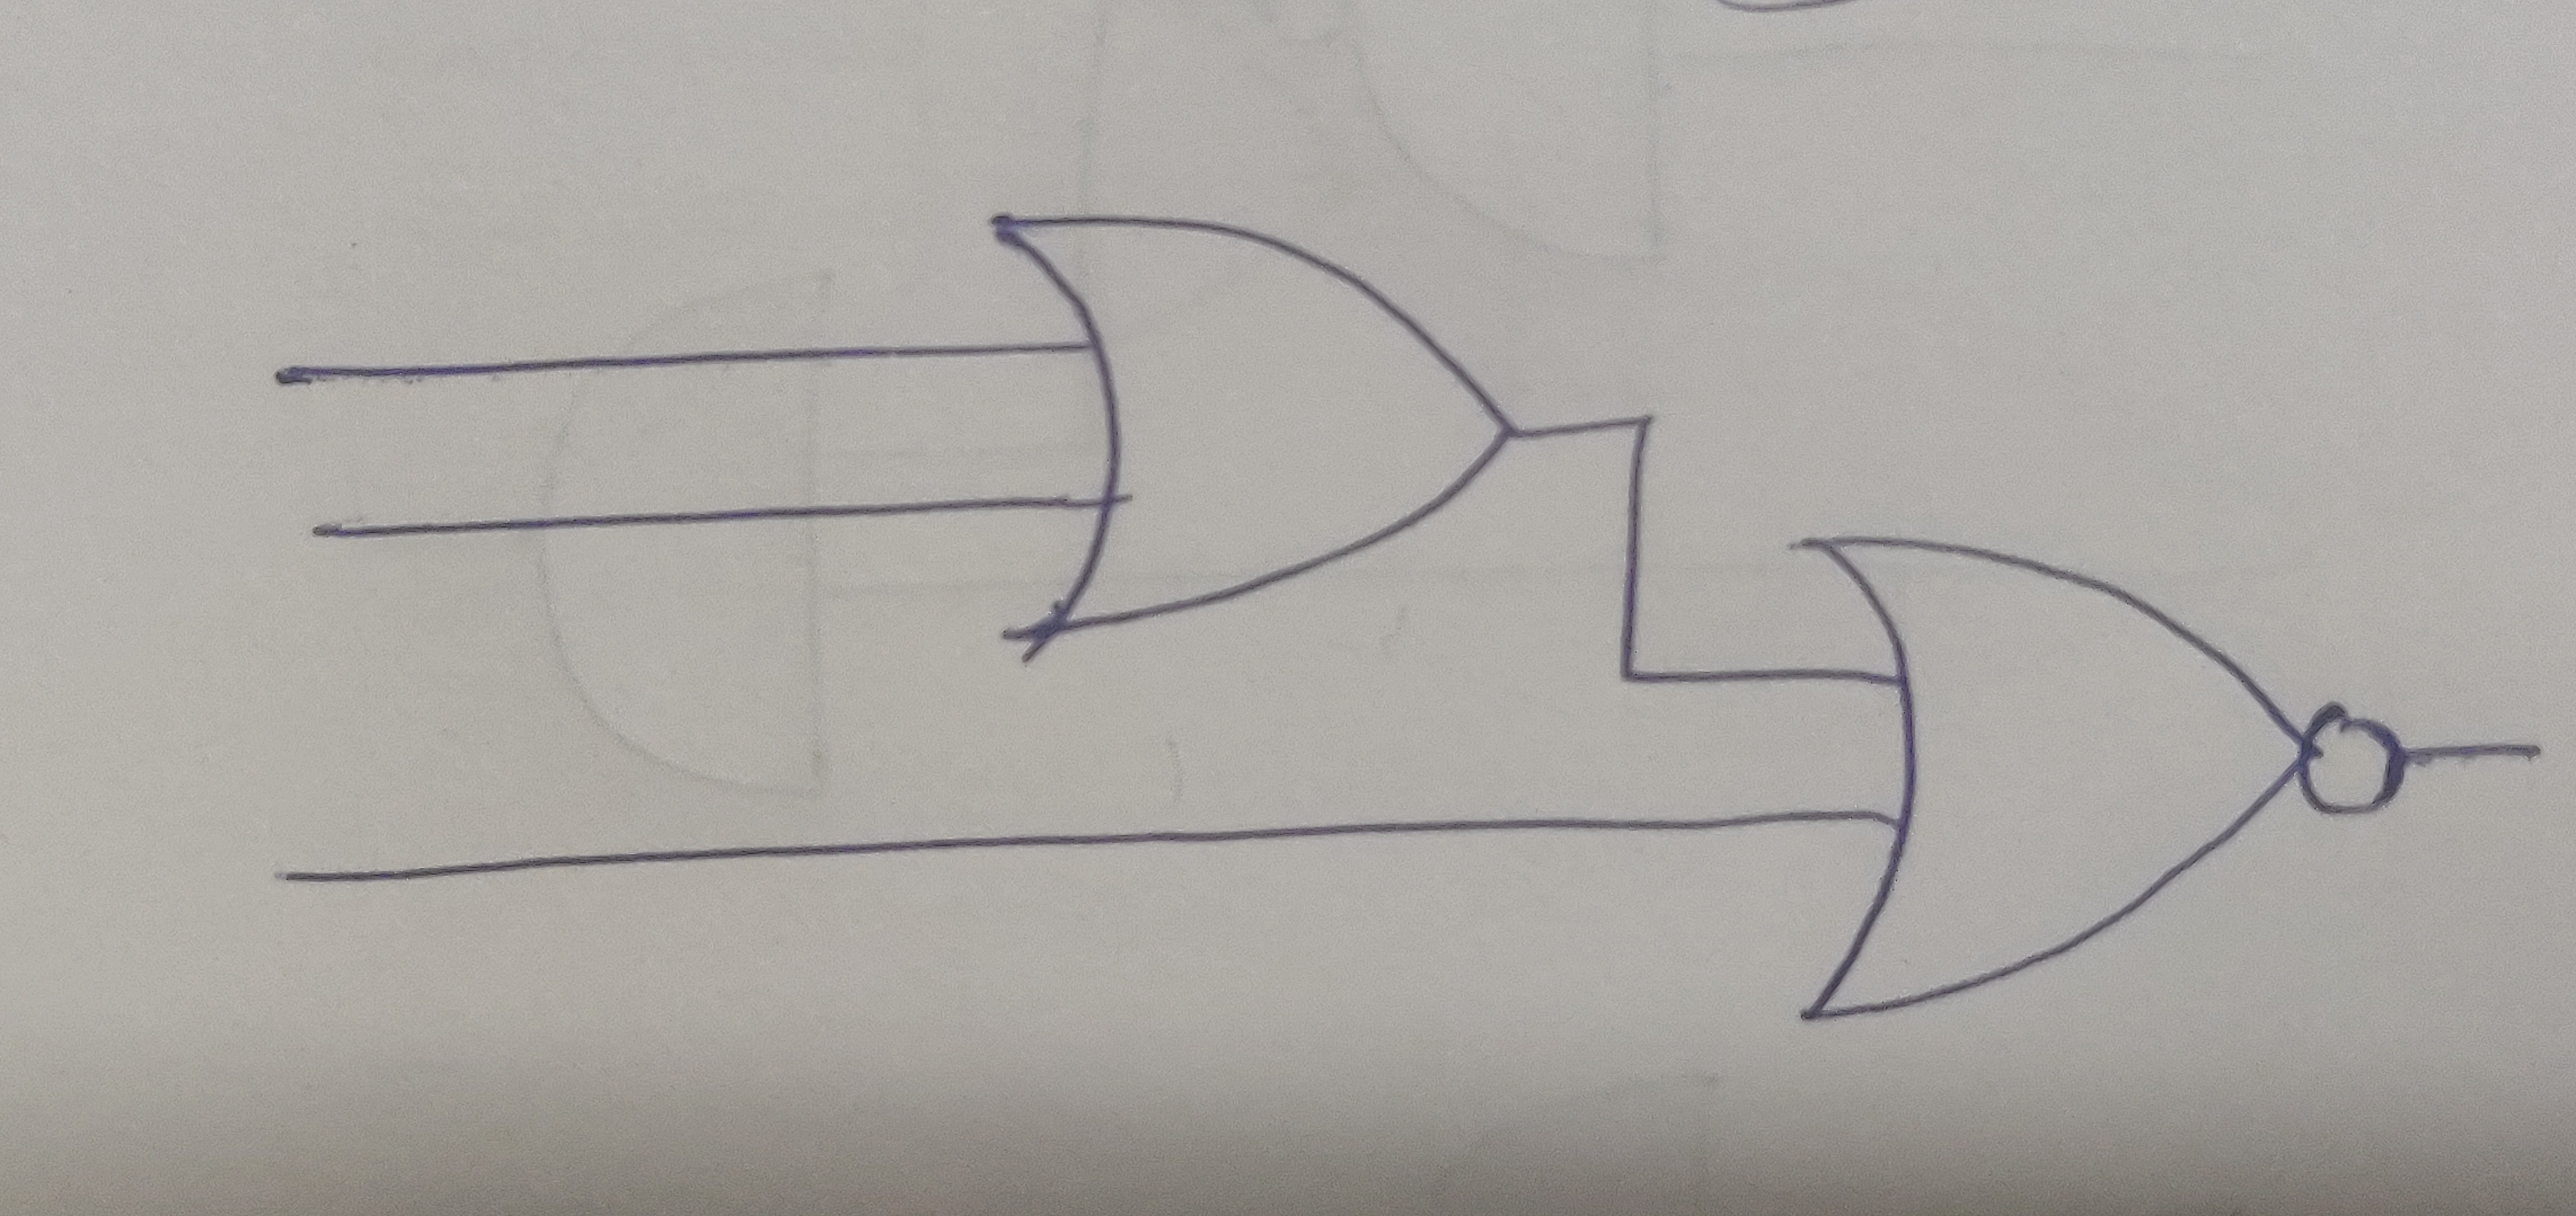not: (2297, 707, 2408, 828)
or: (1794, 529, 2313, 1029), (982, 214, 1525, 641)
